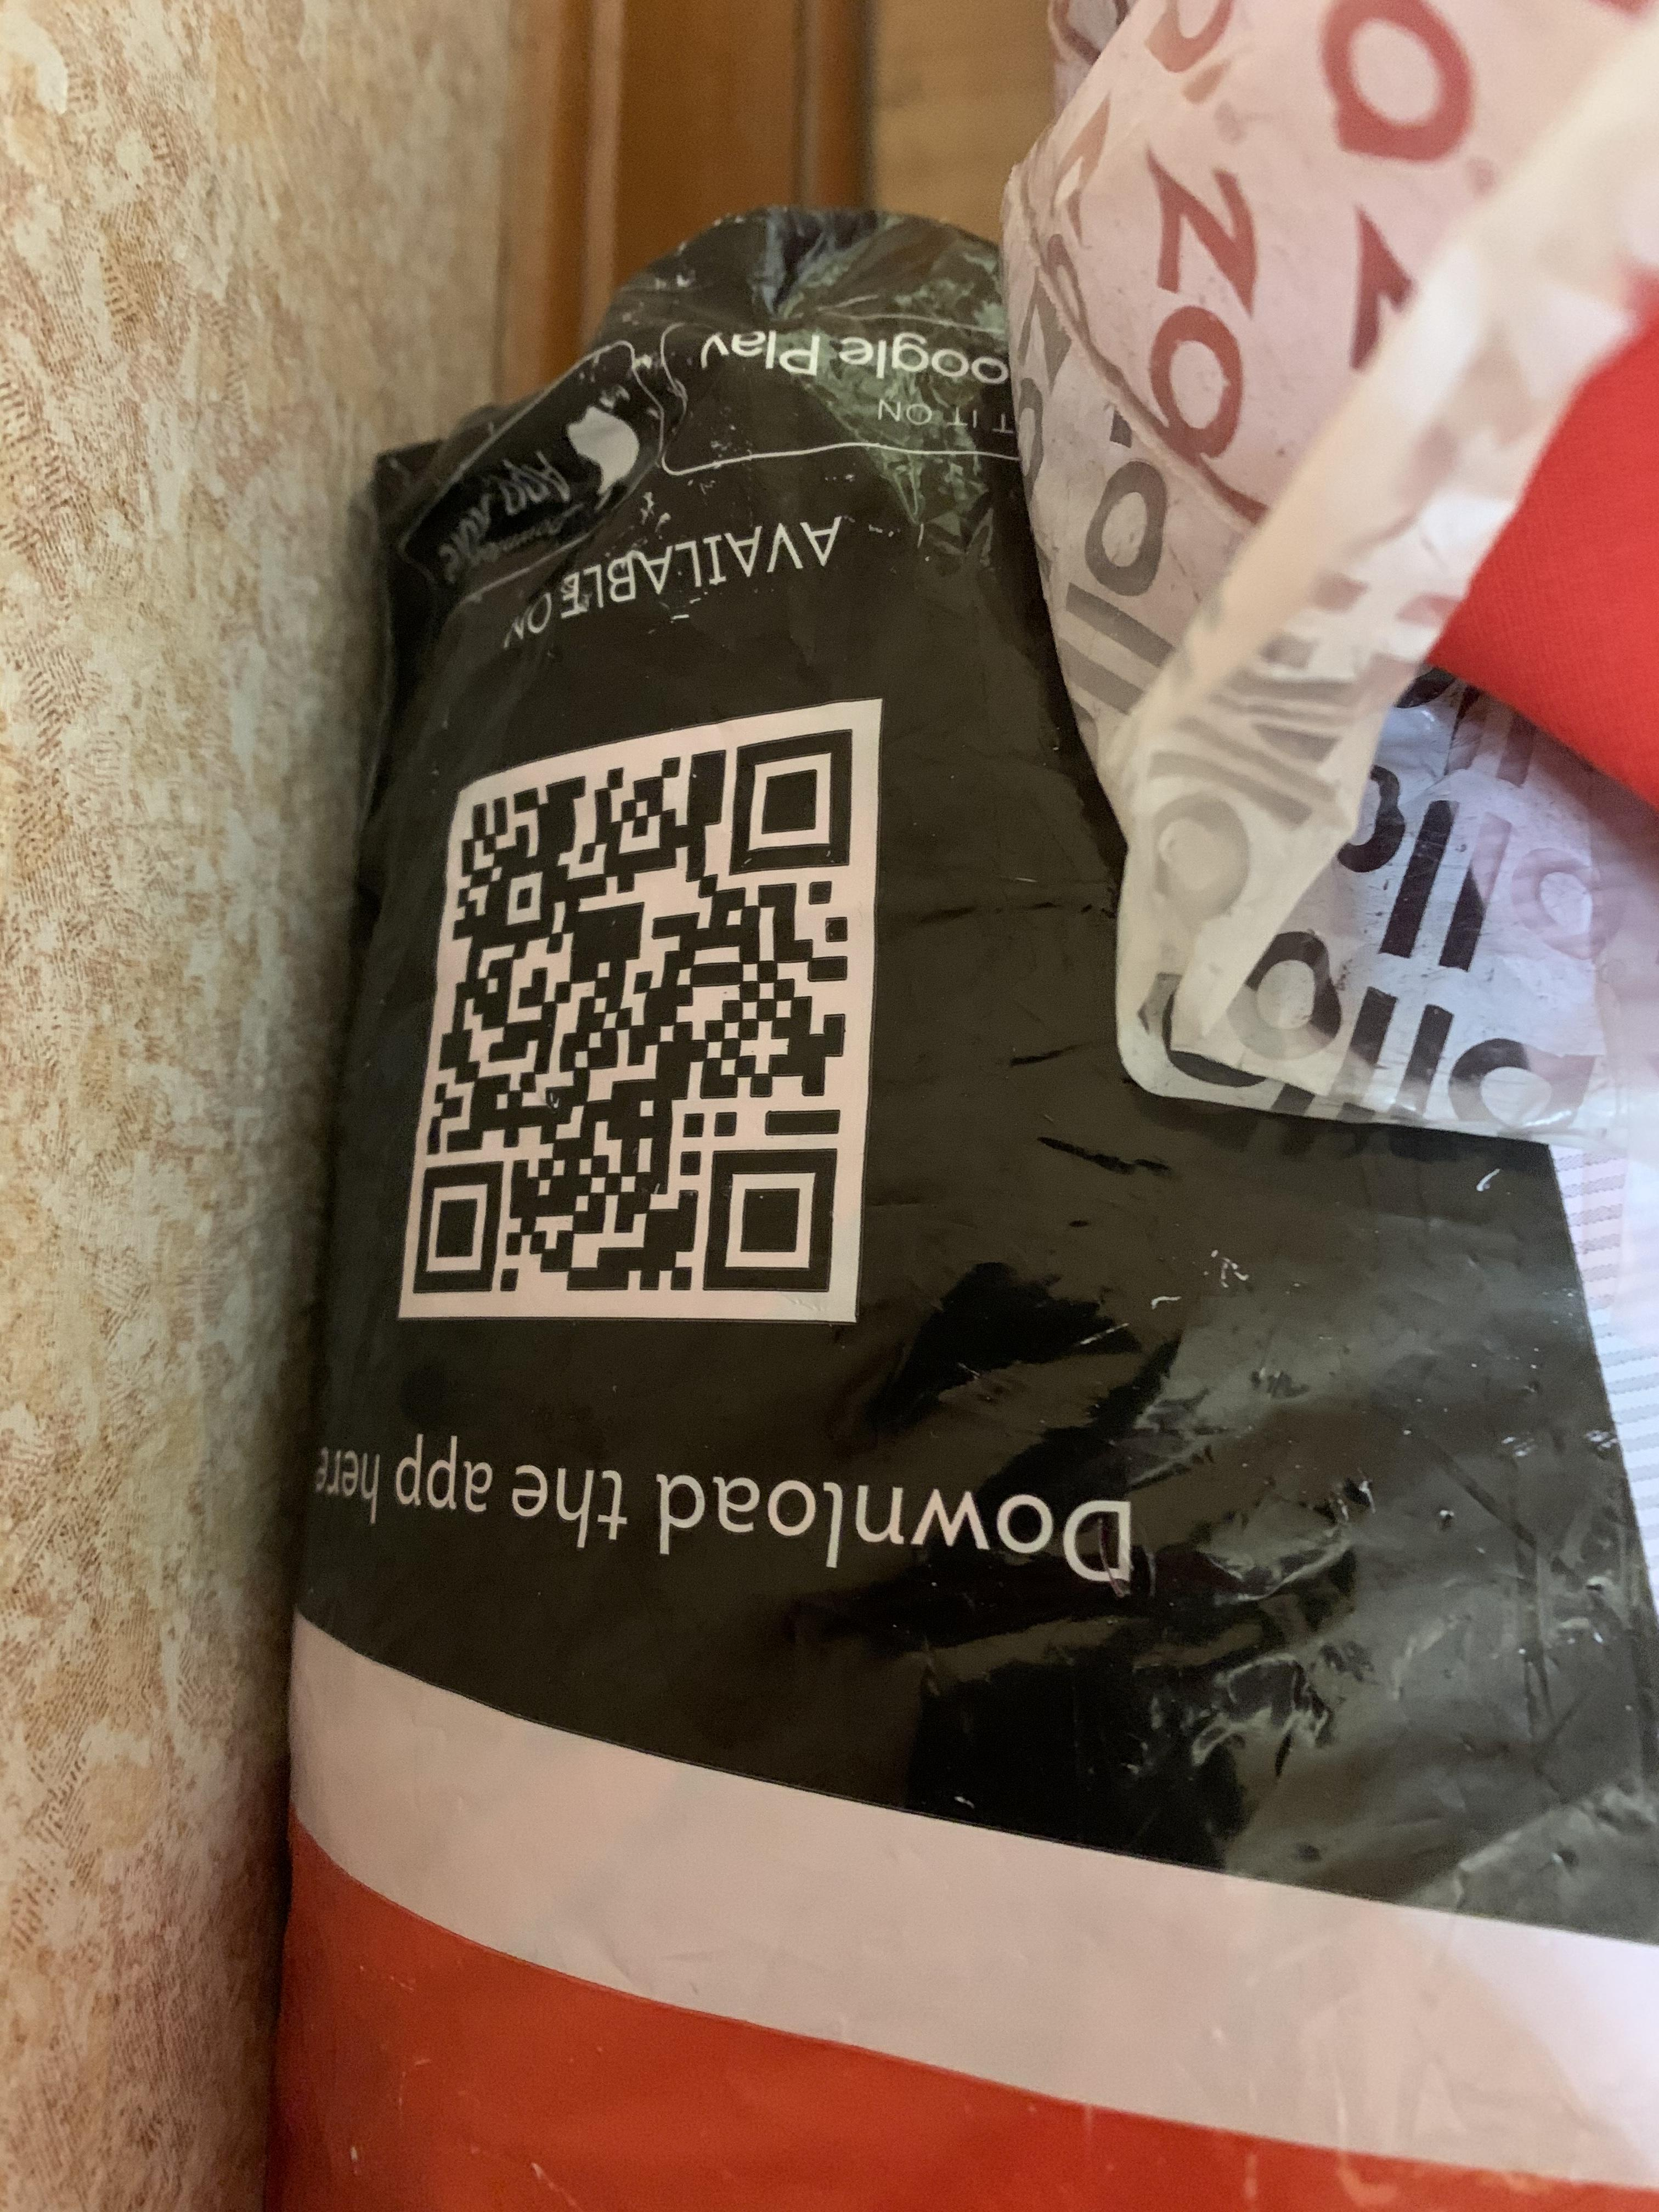qrcode: (411, 725, 859, 1292)
